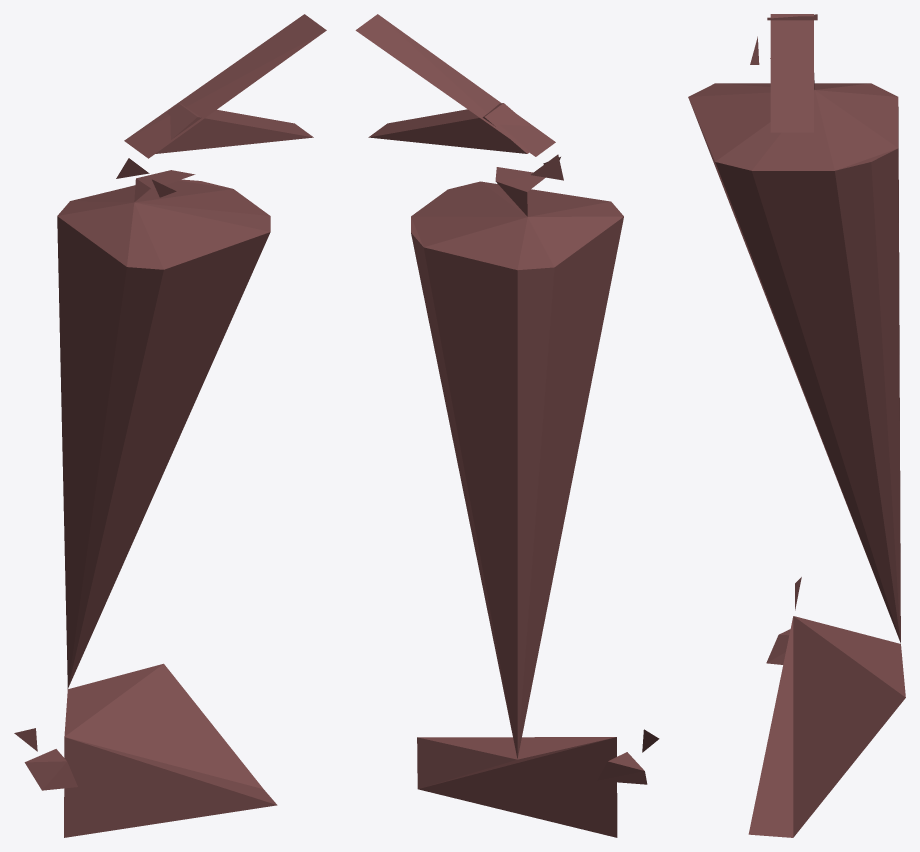
The model's file is fire-ext.lod2.glb.
3 renders of one model, left to right at view 1: azimuth 30°, elevation 25°; view 2: azimuth 150°, elevation 25°; view 3: azimuth 270°, elevation 25°, orthographic. The views are drawn at different scales.
Parts seen in each view (by area): view 1: defaultMaterial; view 2: defaultMaterial; view 3: defaultMaterial.
Boxes of the visible parts, bbox=[...] form: defaultMaterial: bbox=[14, 14, 326, 837]; defaultMaterial: bbox=[355, 14, 659, 837]; defaultMaterial: bbox=[688, 14, 905, 837].
Bounding box in the file's own units: 0.247 × 0.5988 × 0.1398.
